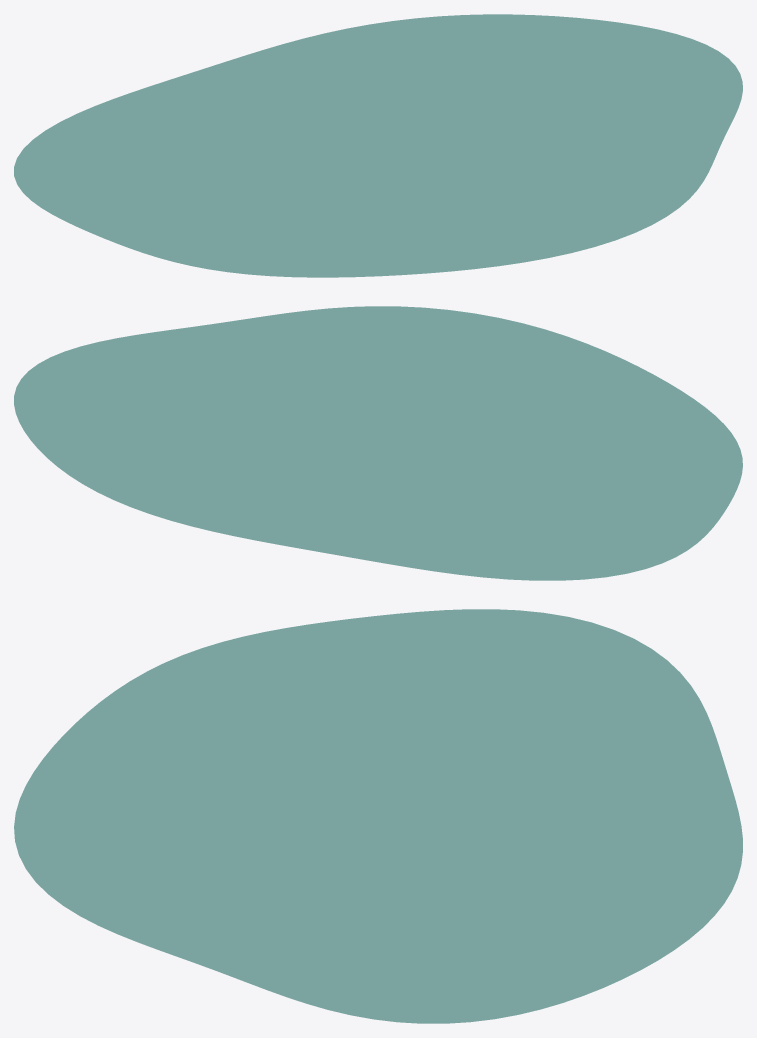
The model's file is SM_Lake.fbx.
The picture shows the model from 3 angles, top to bottom: view 1: azimuth 30°, elevation 25°; view 2: azimuth 150°, elevation 25°; view 3: azimuth 270°, elevation 25°; orthographic projection. The views are drawn at different scales.
Visible parts, largest first — view 1: SM_Lake; view 2: SM_Lake; view 3: SM_Lake.
Part boxes in pixels (left/top/right/bottom): SM_Lake: left=14, top=14, right=742, bottom=277; SM_Lake: left=14, top=306, right=742, bottom=580; SM_Lake: left=14, top=609, right=742, bottom=1023.
Bounding box in the file's own units: 2619 × 1946 × 0.
